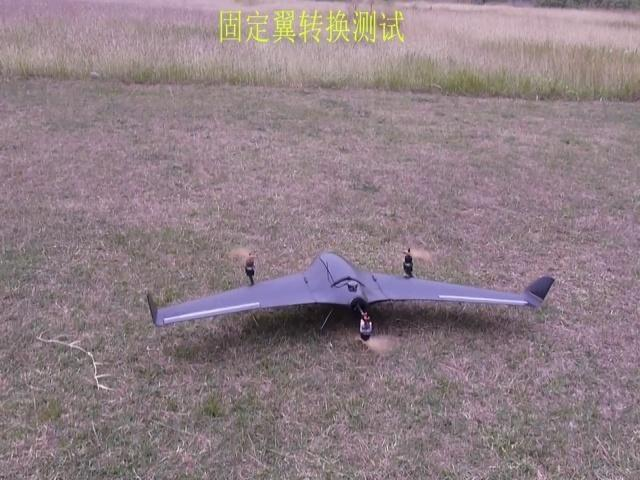Airplane: (146, 248, 554, 350)
